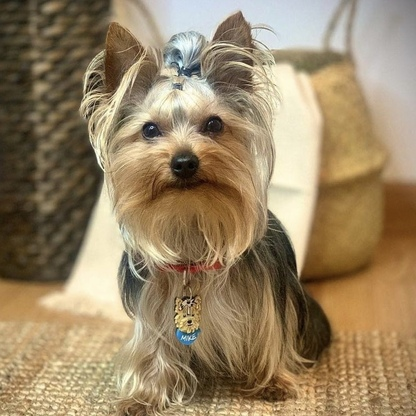yorkshire: (82, 10, 332, 408)
